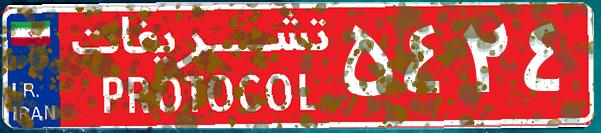2: (460, 20, 520, 115)
4: (400, 20, 460, 115), (520, 20, 580, 115)
5: (340, 20, 400, 115)
تشریفات: (60, 8, 340, 125)
